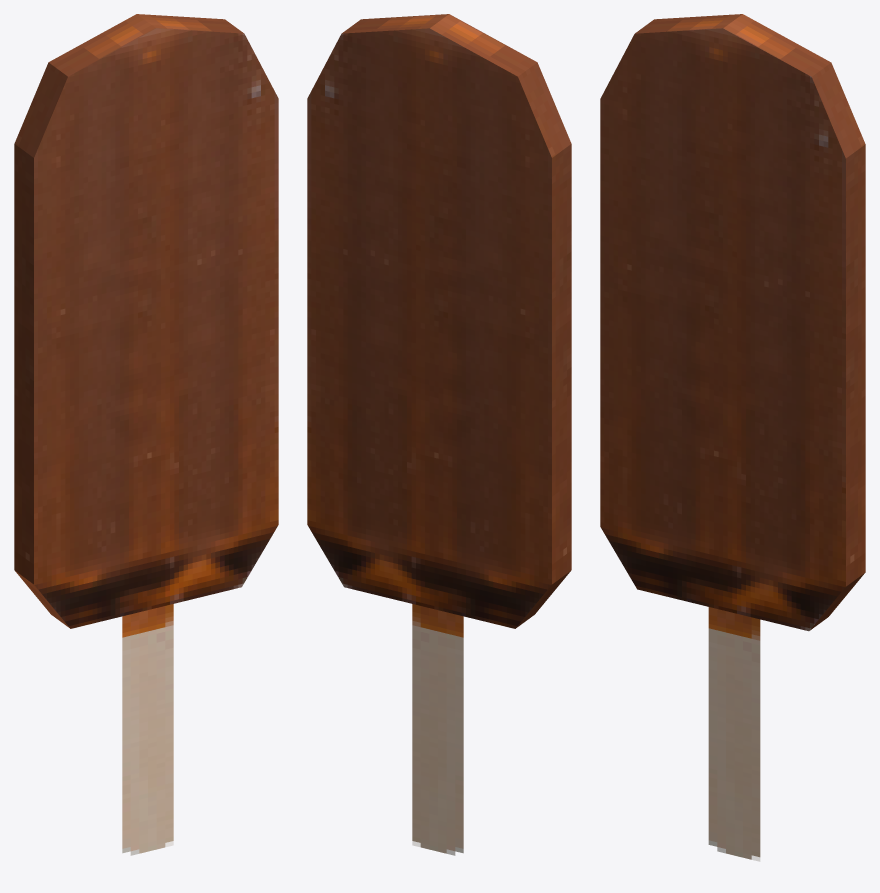
File: icecream.glb
3 views of the same model, side by side, from view 1: azimuth 30°, elevation 25°; view 2: azimuth 150°, elevation 25°; view 3: azimuth 330°, elevation 25° (orthographic).
Parts seen in each view (by area): view 1: Cream; view 2: Cream; view 3: Cream.
Boxes of the visible parts, x1,y1,x2,y2 form: Cream: (14,14,278,855); Cream: (307,14,571,855); Cream: (600,14,865,861).
Size of the model in its own units: 0.144 by 0.47 by 0.02.
Materials: 1 (1 with a texture image).
